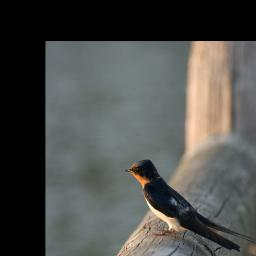Swallow: (121, 155, 256, 253)
